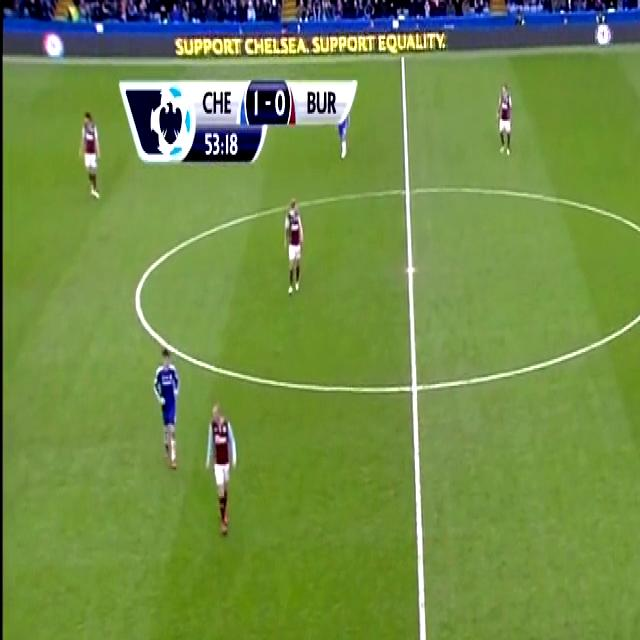soccer-player: (201, 396, 239, 542), (148, 339, 188, 470), (78, 98, 110, 206), (277, 190, 305, 304), (489, 75, 515, 163), (331, 85, 352, 173)
